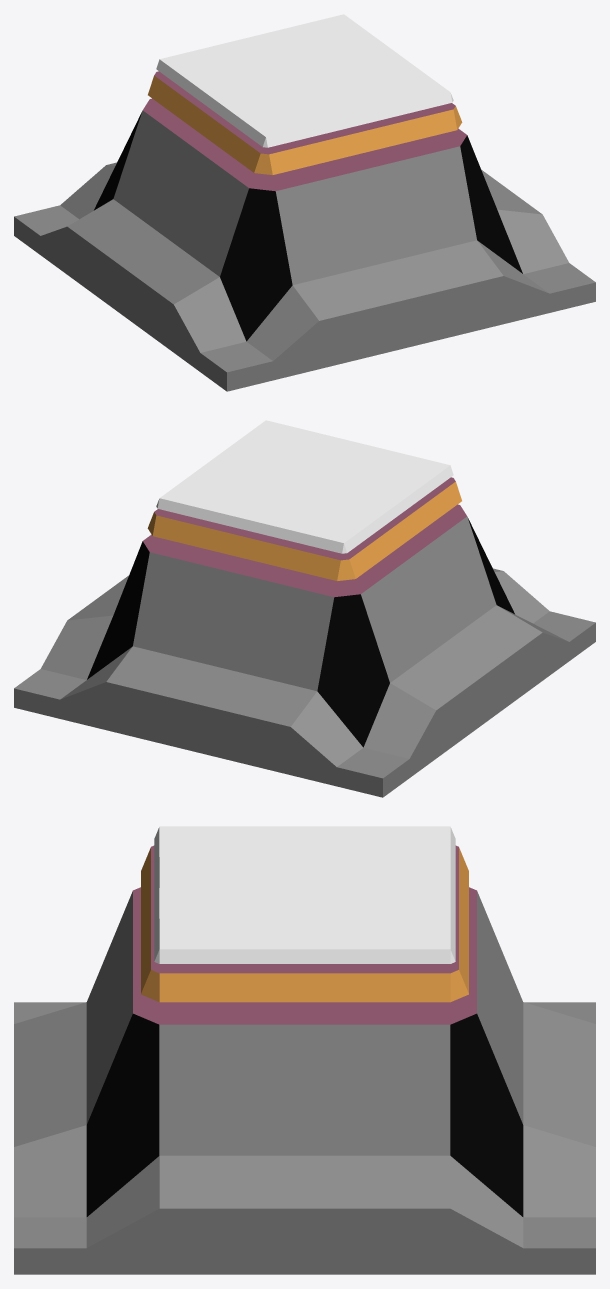
File: anchorPoint.gltf
3 views of the same model, one above another, from view 1: azimuth 30°, elevation 25°; view 2: azimuth 150°, elevation 25°; view 3: azimuth 270°, elevation 25° (orthographic). The views are drawn at different scales.
Parts seen in each view (by area): view 1: Cube; view 2: Cube; view 3: Cube.
Boxes of the visible parts, box(x1,y1,x2,y2) form: Cube: box(14, 14, 595, 391); Cube: box(14, 420, 595, 797); Cube: box(14, 826, 595, 1274).
Size of what is drawn, in the model's own units: 2 by 1 by 2.
1 material, 1 textured.
